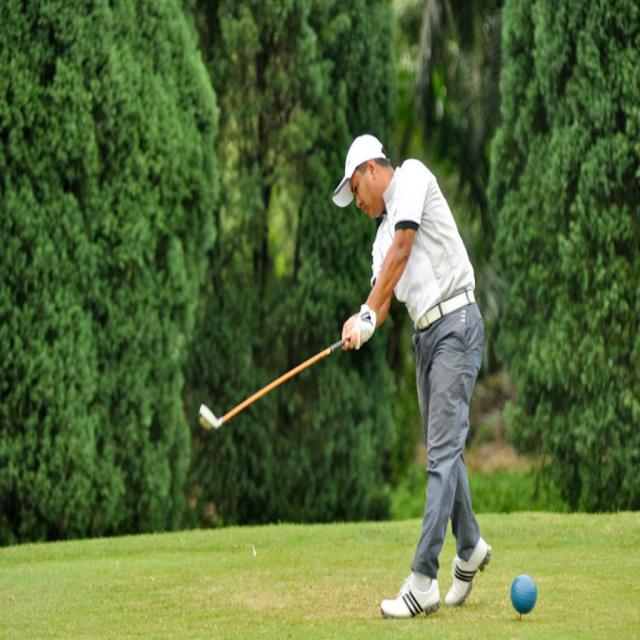golfball: (512, 574, 536, 615)
